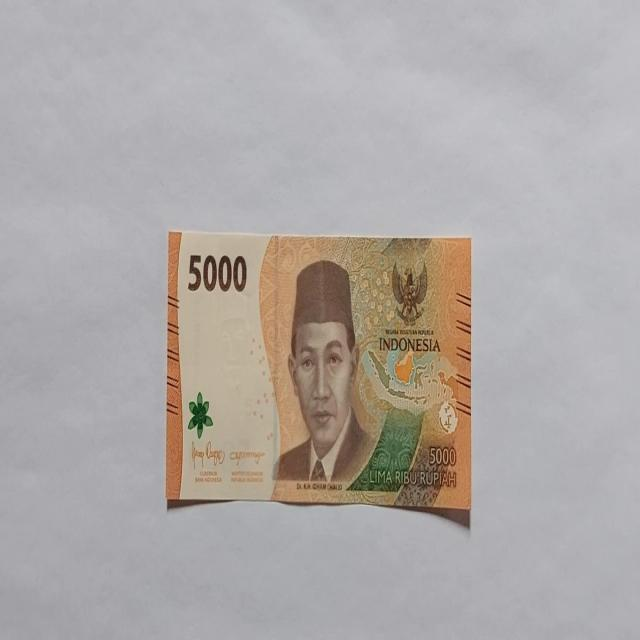lima ribu rupiah: (164, 230, 474, 530), (270, 258, 376, 487)
